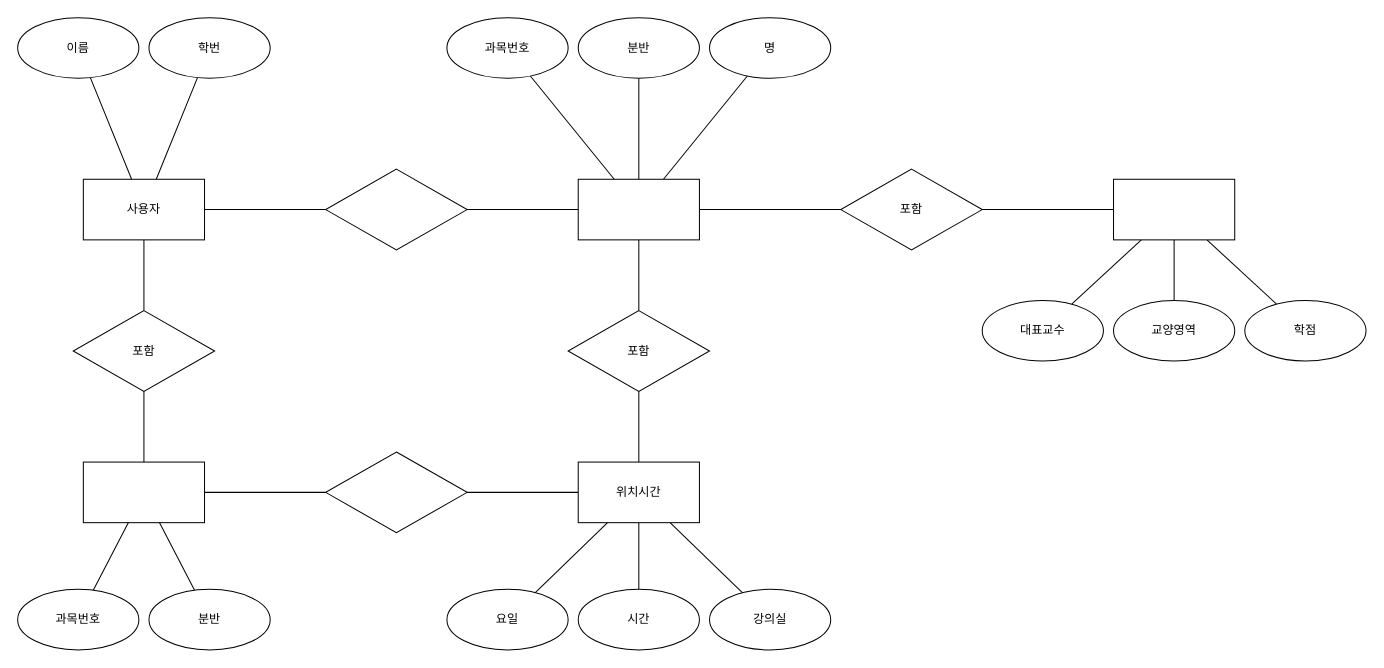
Image size: 1384x668. Some labels were removed from this diagram. The shapes that lost their labels are listed below. From the top down, each one's centre as x and y in pixels, then its label:
At (396,209): "조회".
At (638,209): "교과목".
At (1174,209): "상세정보".
At (143,492): "내시간표".
At (396,492): "참조".
